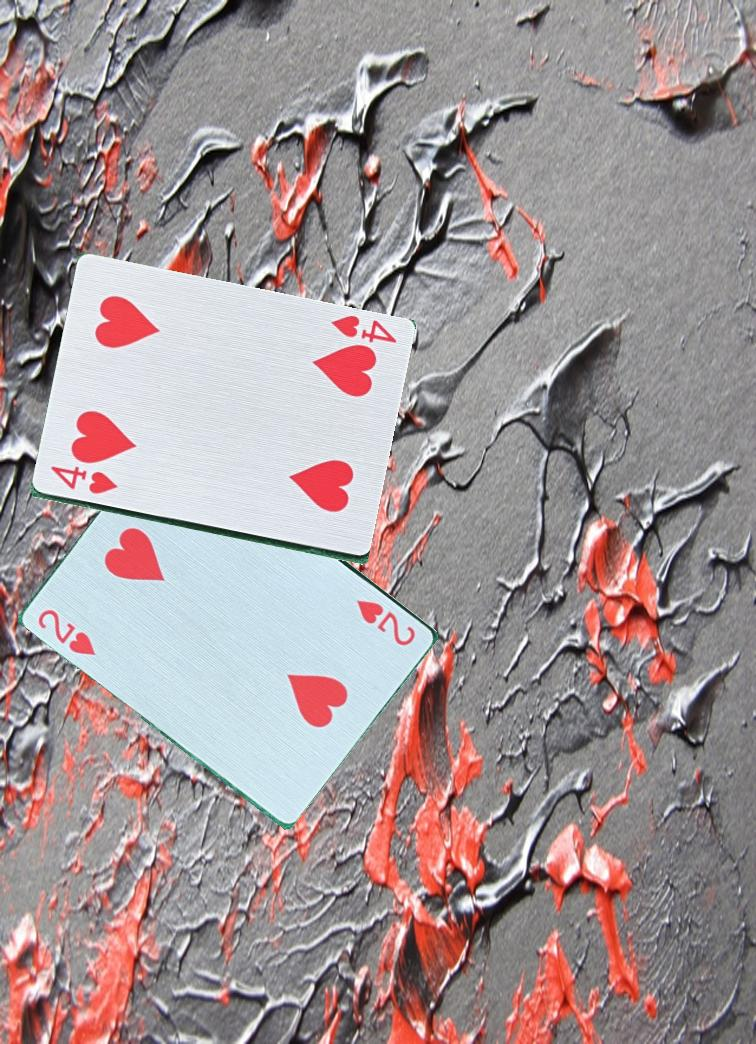2h: (34, 605, 105, 661), (353, 595, 420, 651)
4h: (318, 311, 404, 355), (46, 462, 121, 498)
